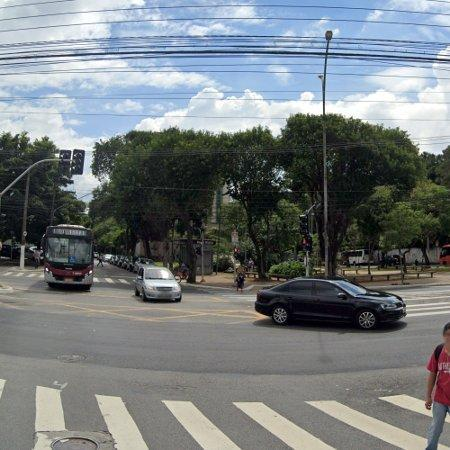crosswalks: (5, 383, 429, 447)
